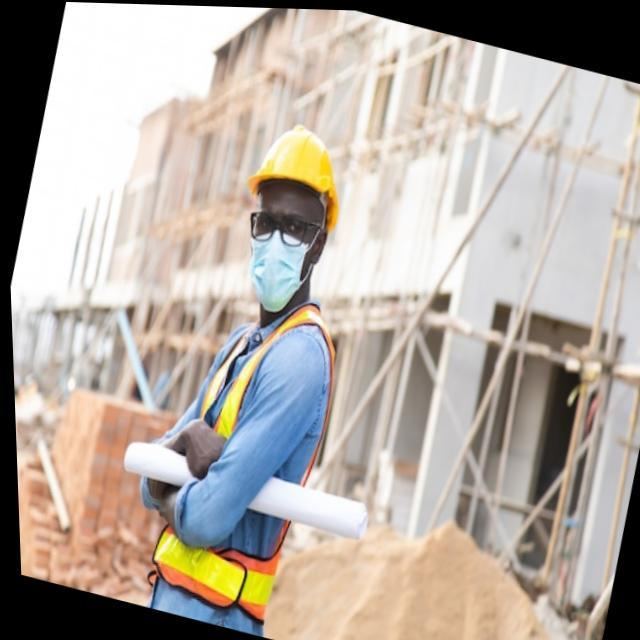belt: (112, 259, 351, 636)
